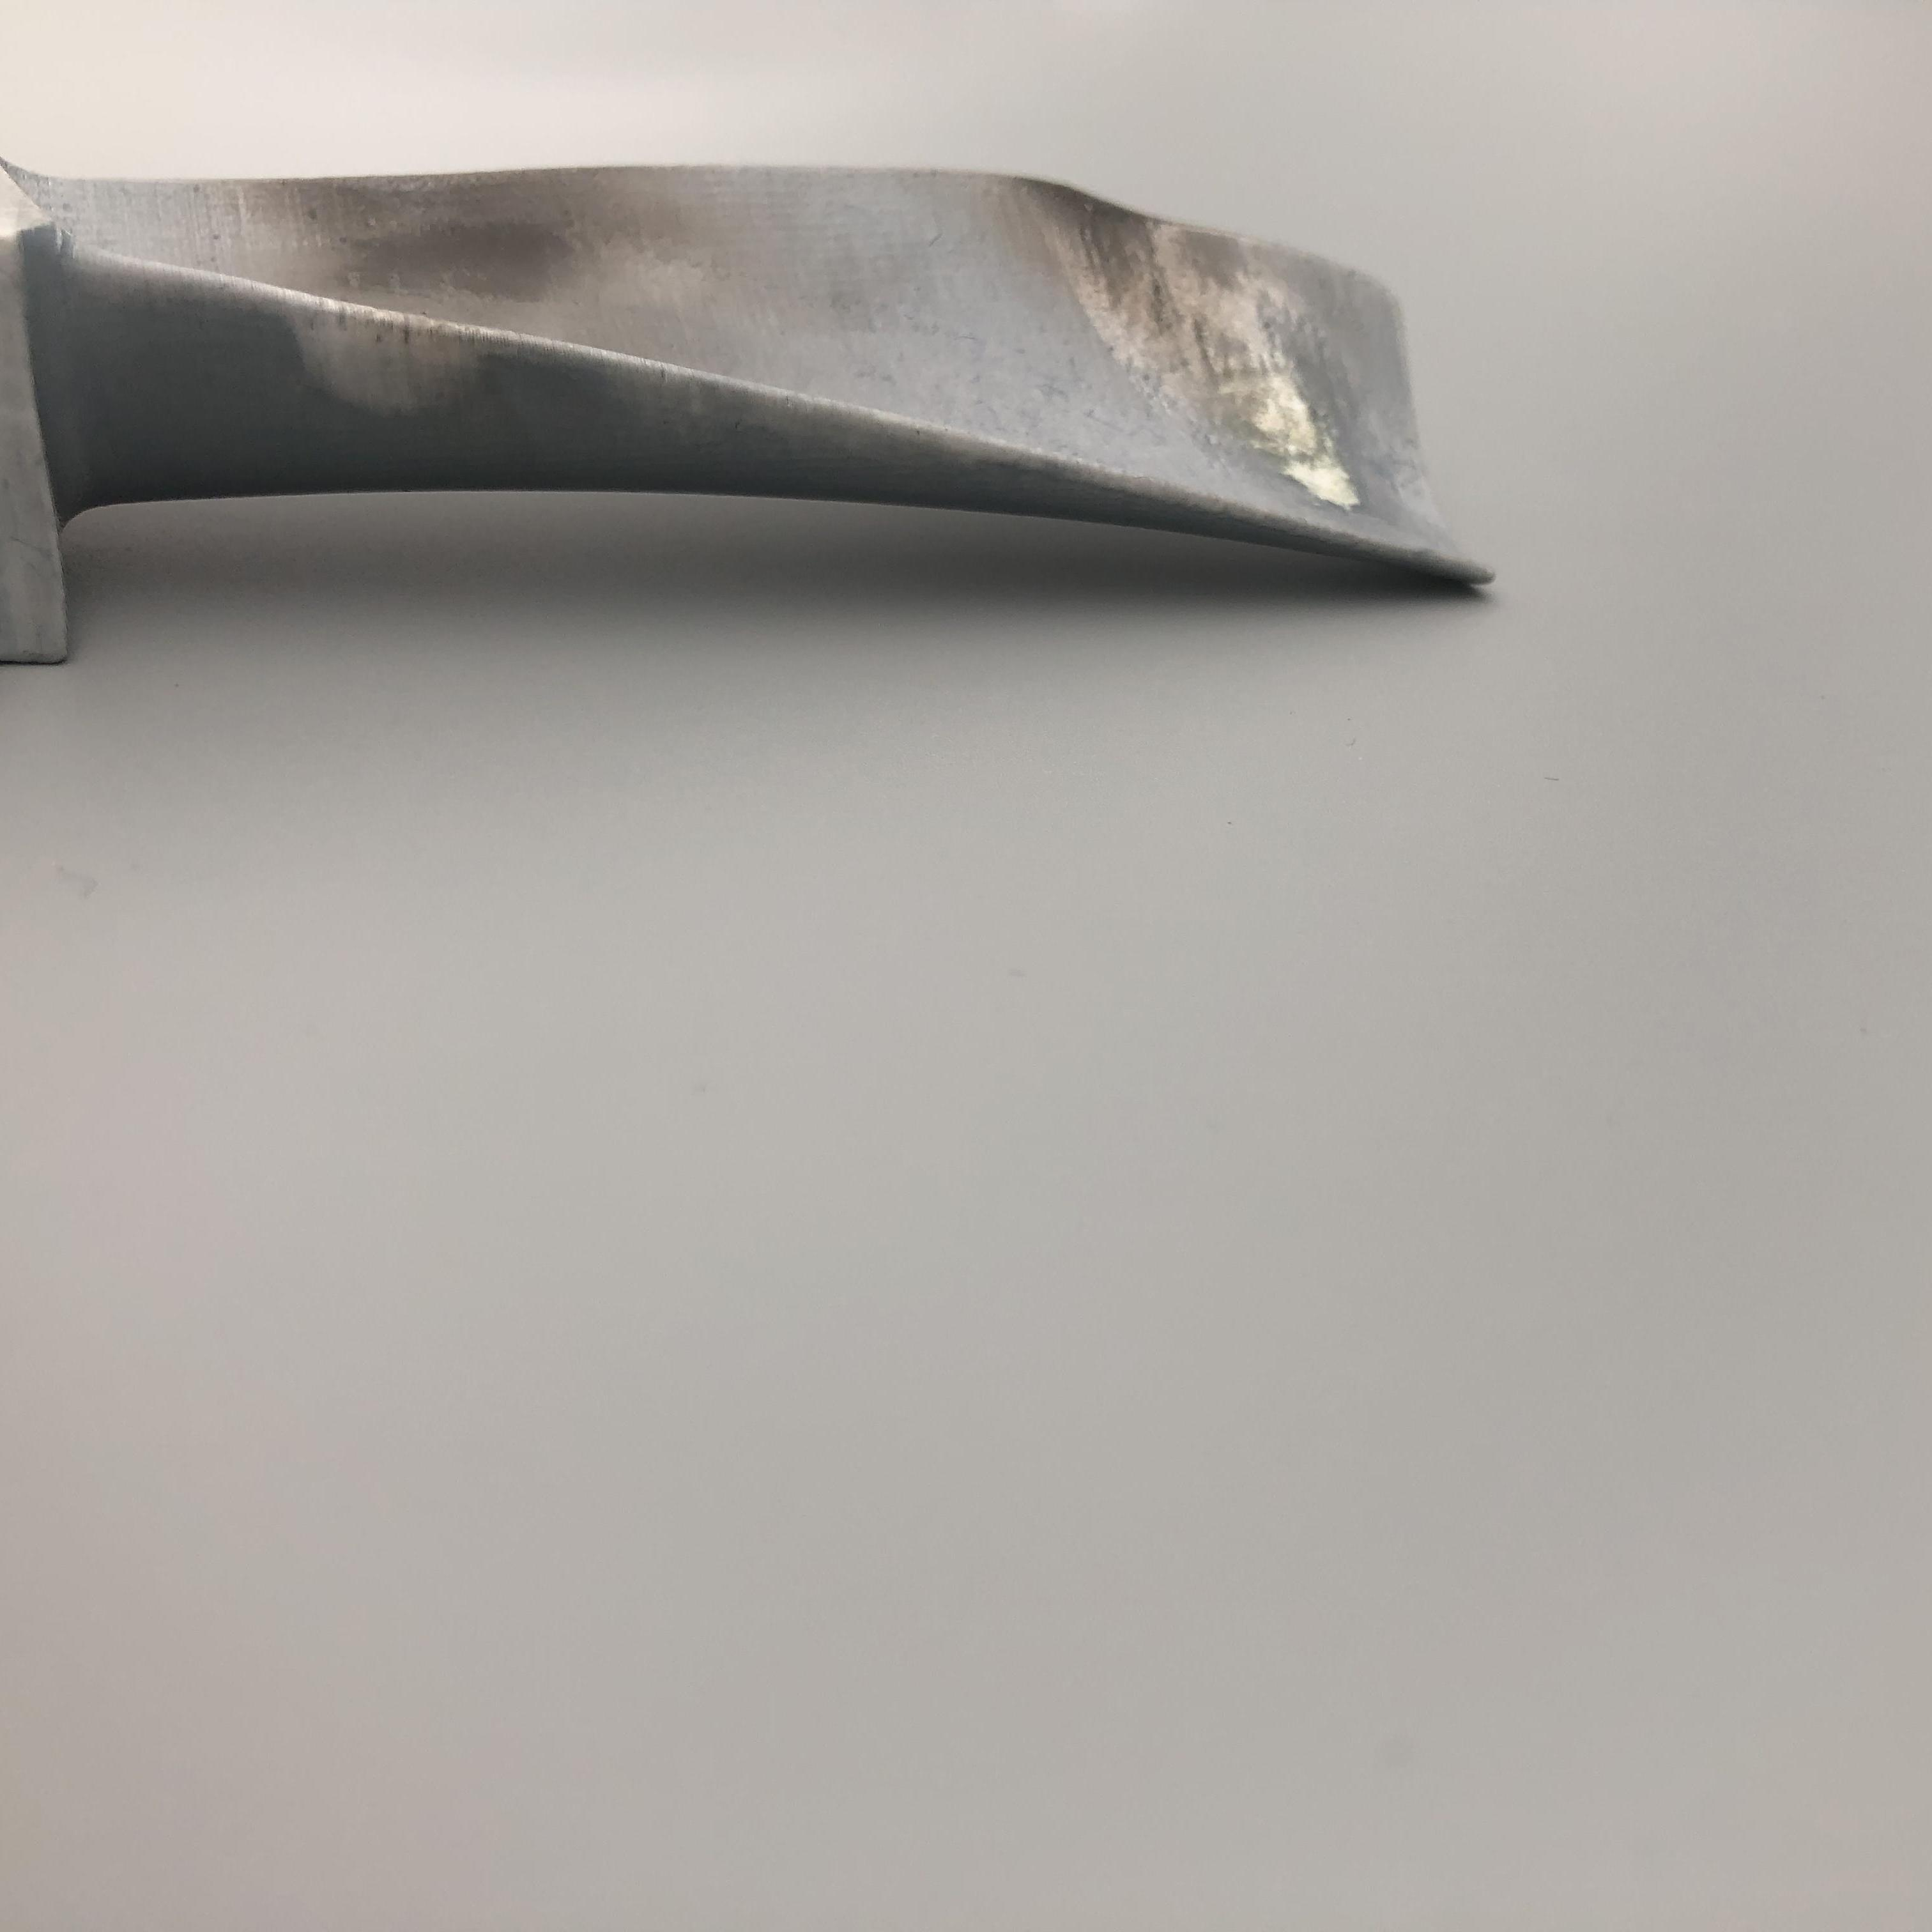ablation: (1028, 179, 1373, 510), (278, 191, 740, 349)
